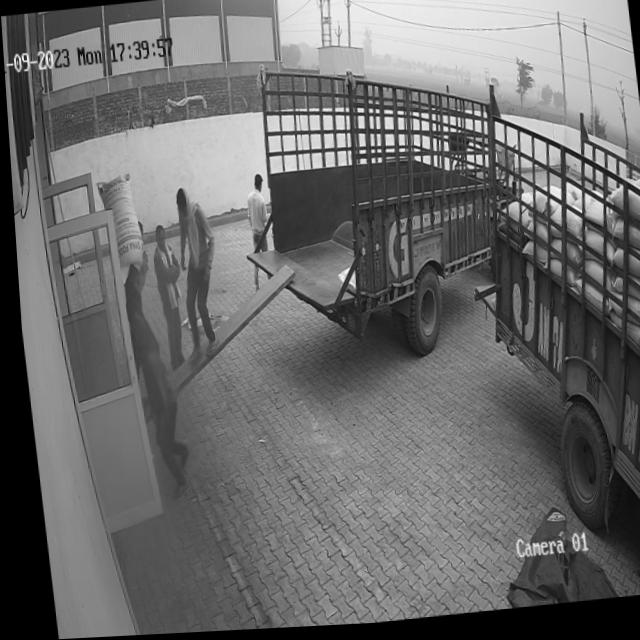sack: (93, 173, 142, 273)
